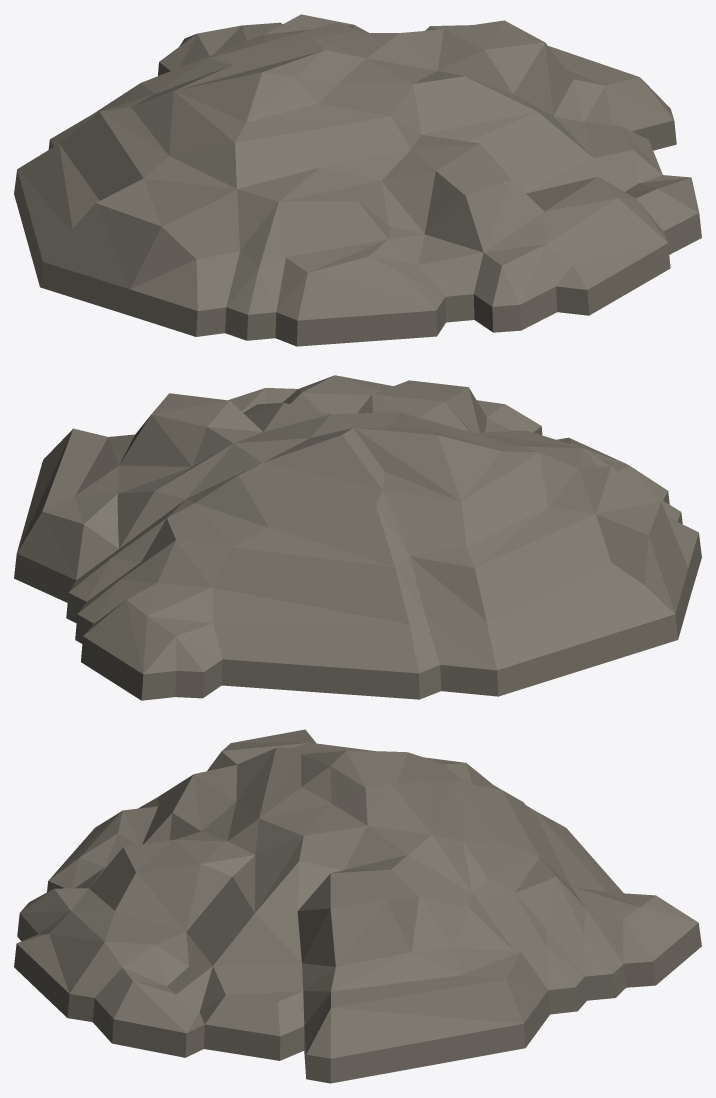
The model's file is rock__debris1_light.glb.
3 views of the same model, one above another, from view 1: azimuth 30°, elevation 25°; view 2: azimuth 150°, elevation 25°; view 3: azimuth 270°, elevation 25° (orthographic). The views are drawn at different scales.
Visible parts, largest first — view 1: debris1.light; view 2: debris1.light; view 3: debris1.light.
Boxes of the visible parts, x1=… form: debris1.light: x1=14, y1=14, x2=701, y2=346; debris1.light: x1=14, y1=375, x2=701, y2=700; debris1.light: x1=14, y1=729, x2=701, y2=1083.
Size of the model in its own units: 5.49 by 1.27 by 5.43.
Materials: 1 (1 with a texture image).
